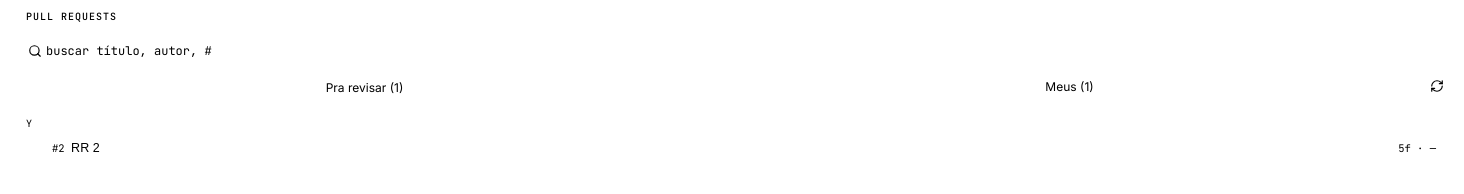
PrListPanel › shows empty state when search has no match
In the field named "Buscar PRs": (732, 51) [22,39,1442,63], type "zzz_no_match"
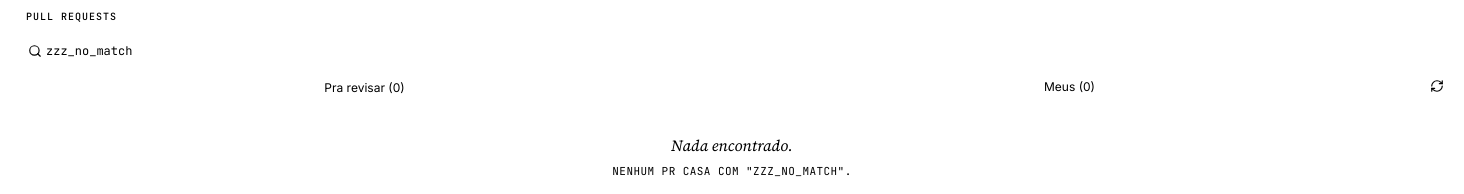
Check: the text "Nada encontrado." is shown, box [671,135,793,156]
